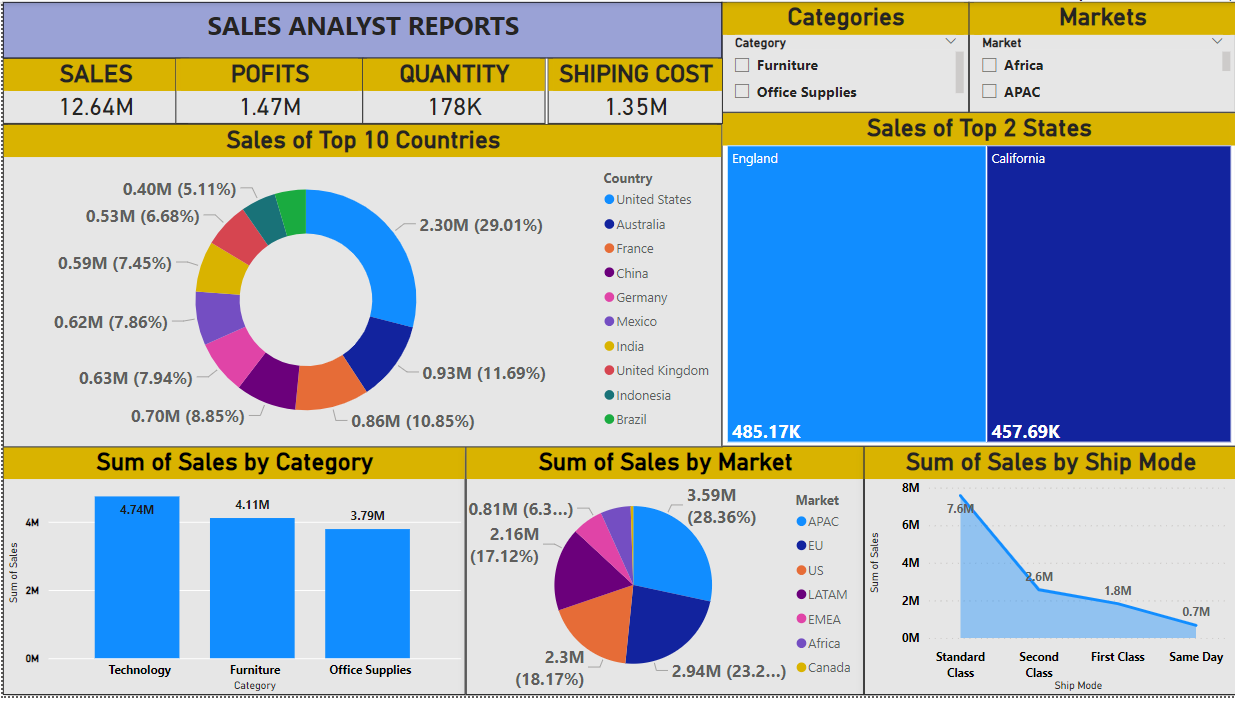

This screenshot's page, from the dashboard's own definition file:
{"tool":"powerbi","page":{"name":"Page 1","canvas":[1280,720],"ordinal":0},"visuals":[{"type":"columnChart","fields":{"Category":["Orders.Category"],"Y":["Sum(Orders.Sales)"]},"box":[0,461.7,480,258.3],"z":0},{"type":"pieChart","fields":{"Category":["Orders.Market"],"Y":["Sum(Orders.Sales)"]},"box":[480,461.7,413.3,258.3],"z":1000},{"type":"areaChart","fields":{"Category":["Orders.Ship Mode"],"Y":["Sum(Orders.Sales)"]},"box":[893.3,461.7,386.7,258.3],"z":2000},{"type":"donutChart","title":"Sales of Top 10 Countries","fields":{"Category":["Orders.Country"],"Y":["Sum(Orders.Sales)"]},"box":[0,126.7,746.7,335],"z":3000},{"type":"treemap","title":"Sales of Top 2 States","fields":{"Group":["Orders.State"],"Values":["Sum(Orders.Sales)"]},"box":[746.7,115,533.3,346.7],"z":4000},{"type":"card","title":"SALES","fields":{"Values":["Sum(Orders.Sales)"]},"box":[0,58.3,191.7,68.3],"z":5000},{"type":"slicer","title":"Categories","fields":{"Values":["Orders.Category"]},"box":[746.7,0,256.7,115],"z":6000},{"type":"slicer","title":"Markets","fields":{"Values":["Orders.Market"]},"box":[1003.3,0,276.7,115],"z":7000},{"type":"textbox","box":[0,0,746.7,58.3],"z":8000},{"type":"card","title":"POFITS","fields":{"Values":["Sum(Orders.Profit)"]},"box":[178.3,58.3,195,68.3],"z":9000},{"type":"card","title":"QUANTITY","fields":{"Values":["Sum(Orders.Quantity)"]},"box":[373.3,58.3,190,68.3],"z":10000},{"type":"card","title":"SHIPING COST","fields":{"Values":["Sum(Orders.Shipping Cost)"]},"box":[565,58.3,181.7,68.3],"z":11000}]}

Visuals, with their boxes in screenshot pixels (x1, y1, x2, y2), scaled from the page's 1280x720 canvas onto the 1235x701 screenshot:
columnChart - Orders.Category x Sum(Orders.Sales): Rect(0, 450, 463, 700)
pieChart - Orders.Market x Sum(Orders.Sales): Rect(463, 450, 862, 700)
areaChart - Orders.Ship Mode x Sum(Orders.Sales): Rect(862, 450, 1234, 700)
"Sales of Top 10 Countries" donutChart: Rect(0, 123, 720, 450)
"Sales of Top 2 States" treemap: Rect(720, 112, 1234, 450)
"SALES" card: Rect(0, 57, 185, 123)
"Categories" slicer: Rect(720, 0, 968, 112)
"Markets" slicer: Rect(968, 0, 1234, 112)
textbox: Rect(0, 0, 720, 57)
"POFITS" card: Rect(172, 57, 360, 123)
"QUANTITY" card: Rect(360, 57, 543, 123)
"SHIPING COST" card: Rect(545, 57, 720, 123)
